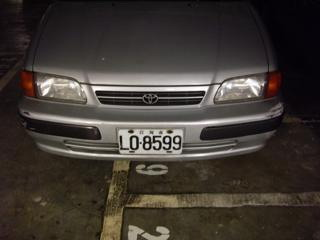plate: (115, 126, 185, 157)
